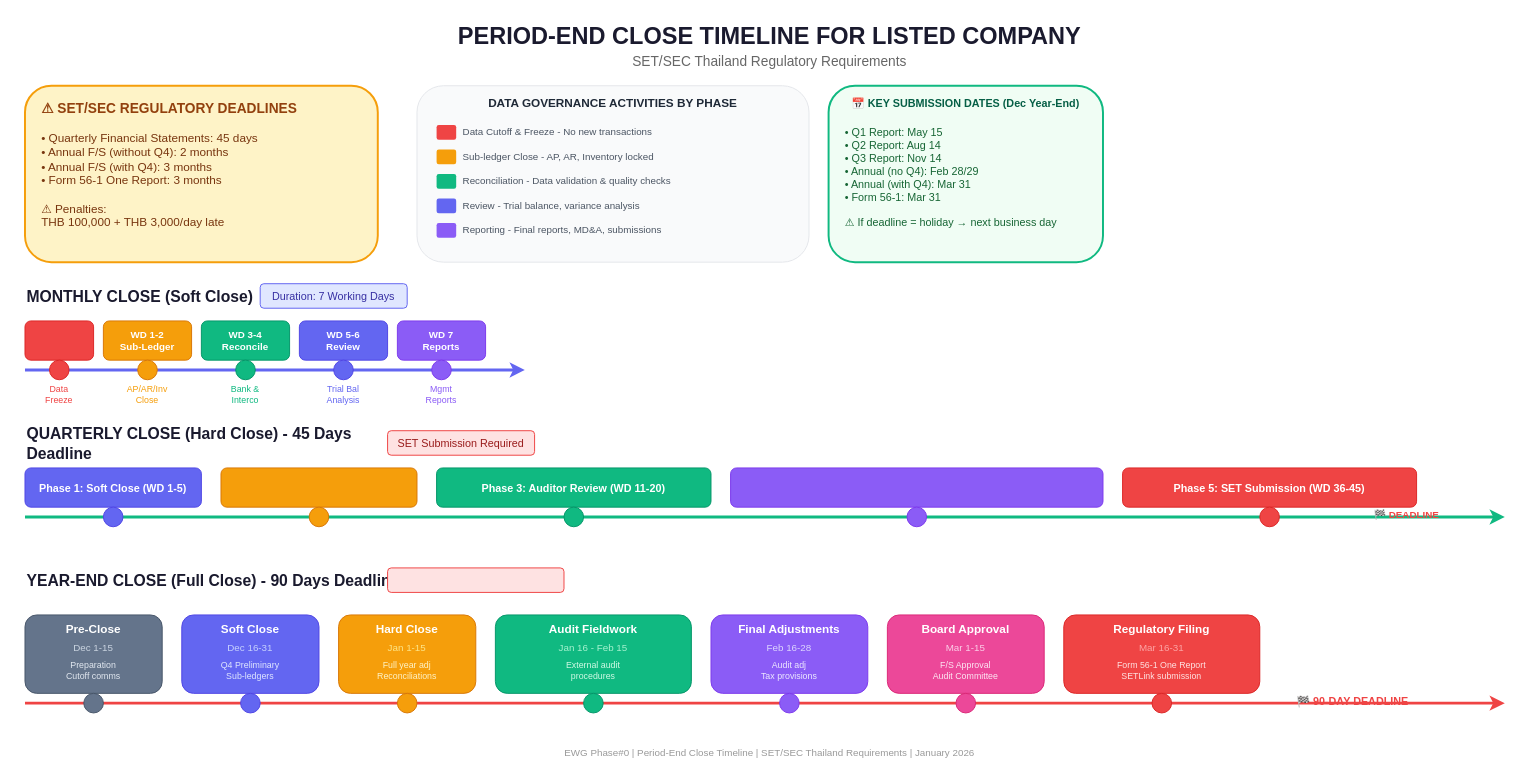
The diagram is 1531 pixels wide and 778 high, and some of its shapes have lost their labels. Here are the shapes that lost their labels. From the top down, the box of each, then its label:
(24, 320, 94, 360): WD 0 CUTOFF
(220, 467, 417, 507): Phase 2: Hard Close (WD 6-10)
(730, 467, 1103, 507): Phase 4: MD&A & Board Review (WD 21-35)
(387, 567, 564, 592): Form 56-1 One Report + Audit
